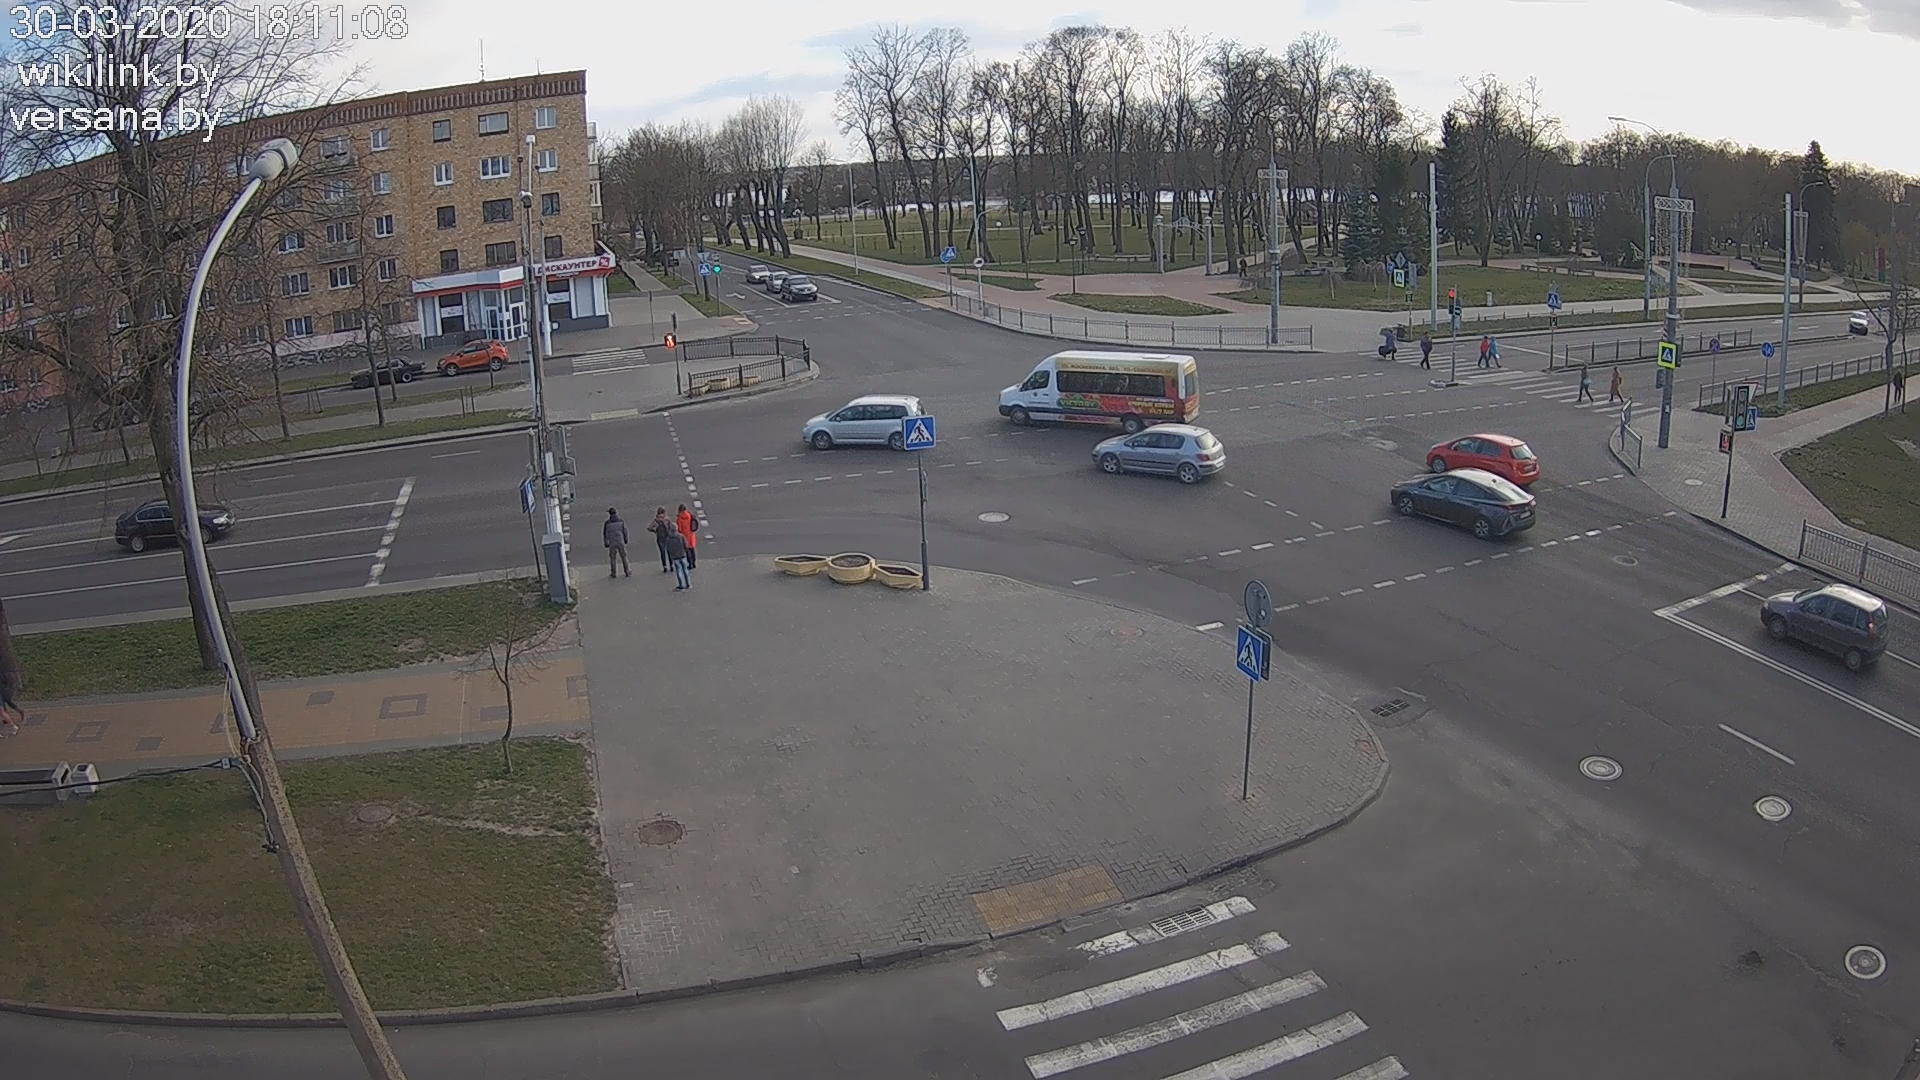car: (998, 349, 1201, 434), (1760, 583, 1888, 673), (1390, 465, 1538, 541), (1091, 422, 1226, 485), (802, 393, 928, 452), (115, 497, 236, 554), (1425, 433, 1540, 487), (436, 339, 509, 377), (349, 355, 427, 389), (781, 273, 818, 302), (766, 270, 789, 293)
